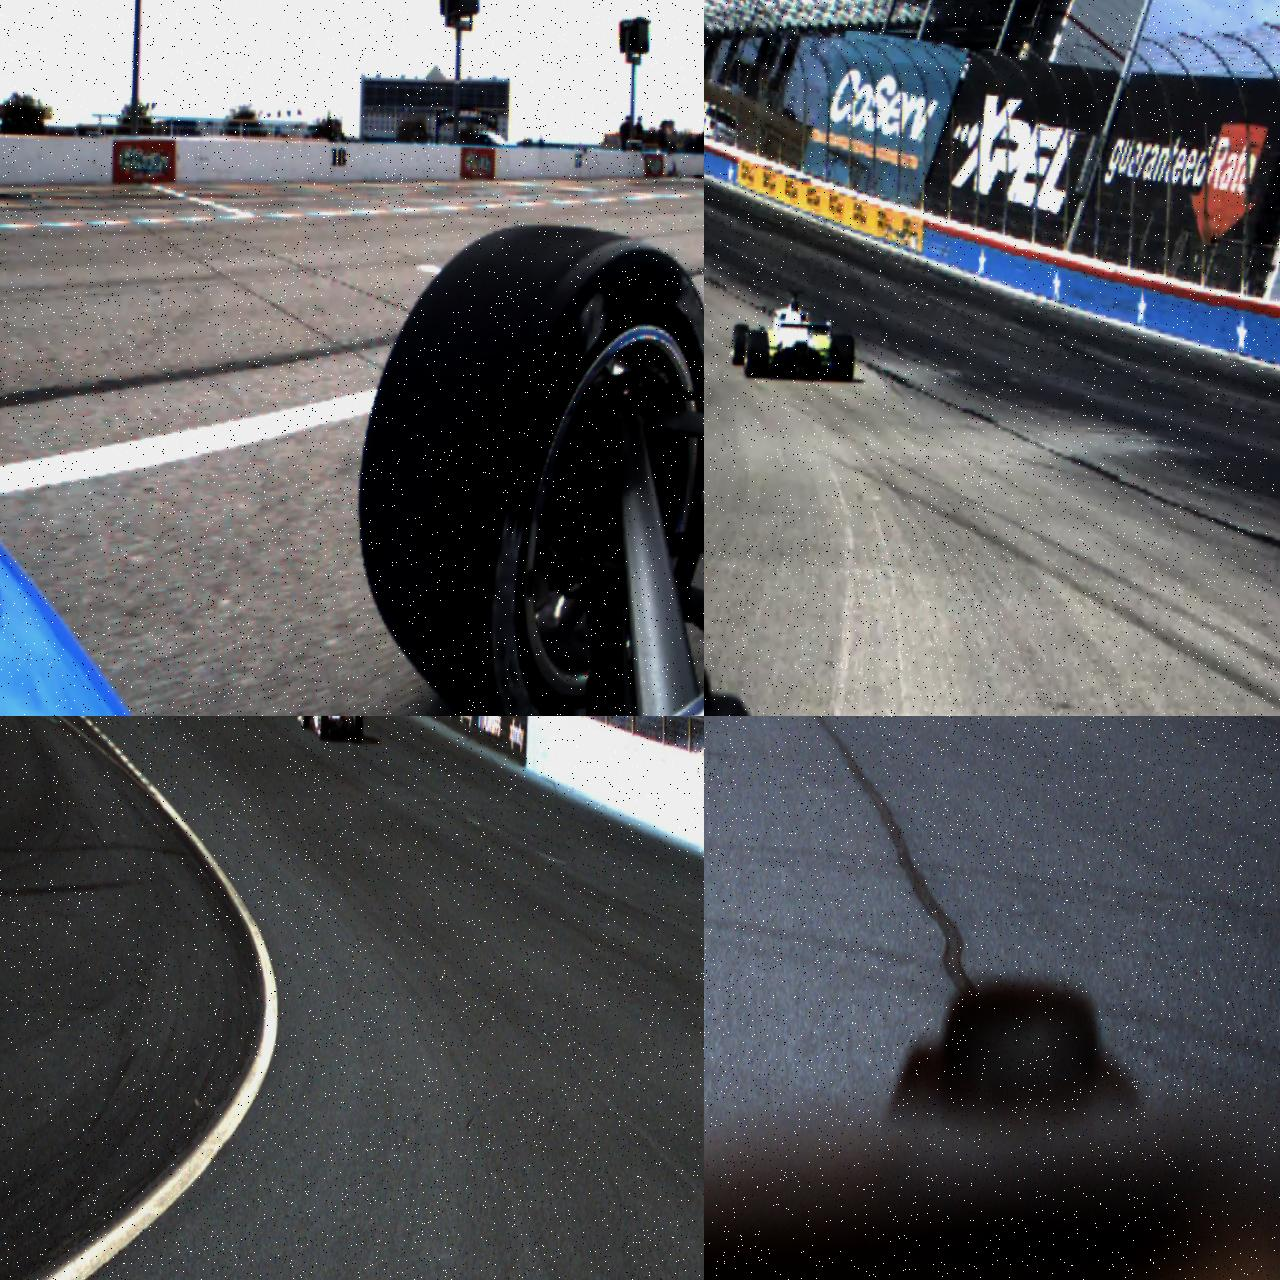AV: (729, 287, 857, 382), (296, 716, 364, 741)
Wheel: (349, 217, 704, 716), (744, 330, 768, 378), (830, 334, 854, 381), (731, 324, 747, 366), (316, 716, 328, 739), (352, 716, 363, 740), (300, 716, 310, 729)
